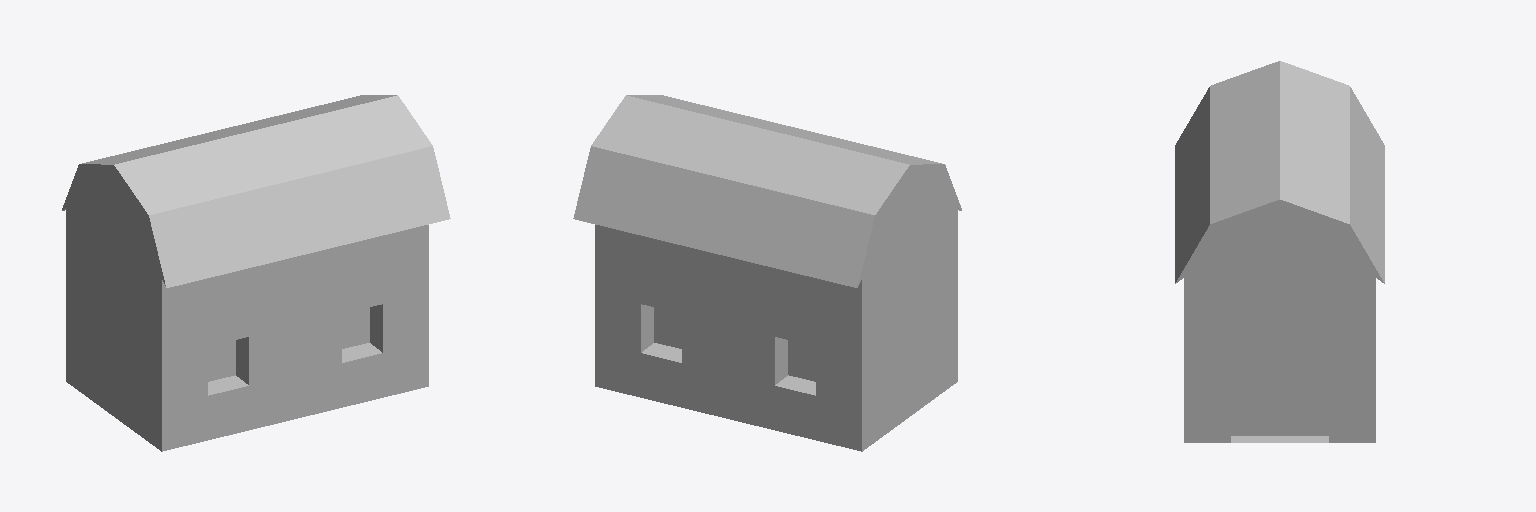
Rendered from barn.obj.
3 renders of one model, left to right at view 1: azimuth 30°, elevation 25°; view 2: azimuth 150°, elevation 25°; view 3: azimuth 270°, elevation 25°, orthographic.
Visible parts, largest first — view 1: Cube; view 2: Cube; view 3: Cube.
Boxes of the visible parts, x1=… form: Cube: x1=62, y1=95, x2=450, y2=451; Cube: x1=573, y1=95, x2=961, y2=451; Cube: x1=1175, y1=61, x2=1384, y2=442.
Bounding box in the file's own units: 1.19 × 1 × 0.7597.